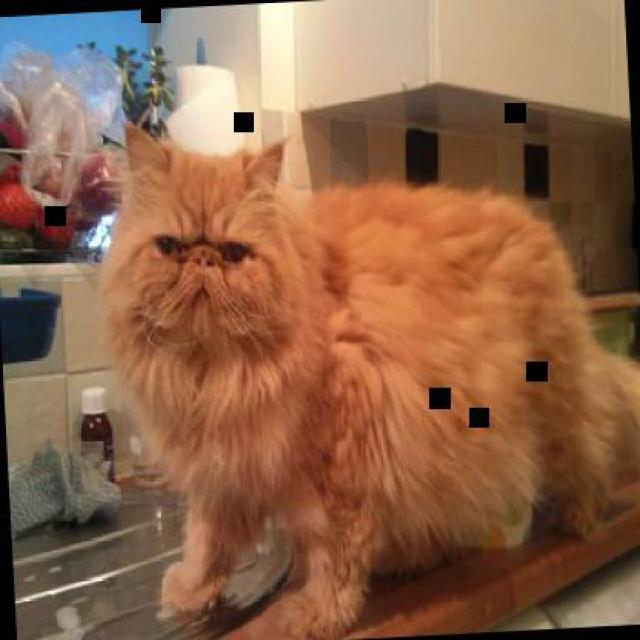cat: (87, 91, 638, 638)
